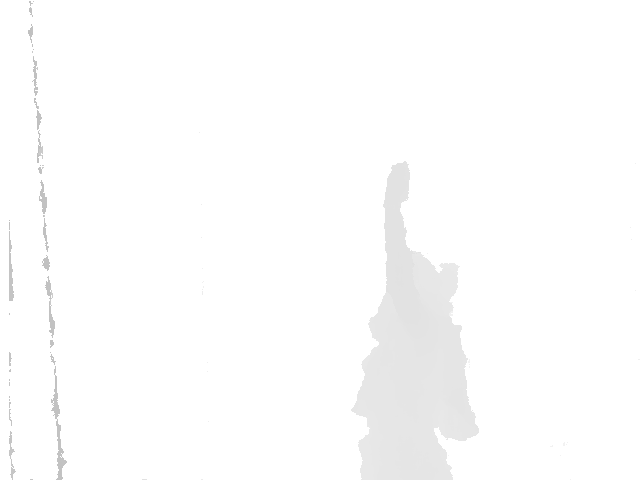hand: (383, 159, 412, 207)
head: (387, 241, 461, 322)
person: (352, 160, 479, 479)
